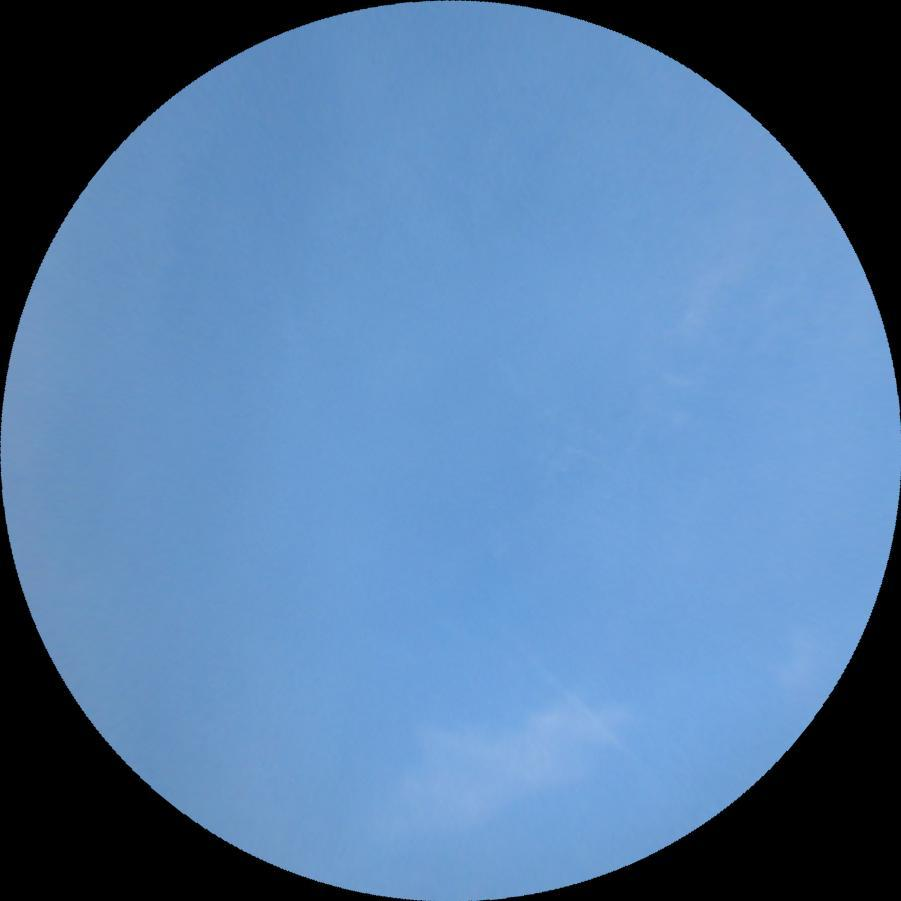unknow: (500, 629, 635, 760)
